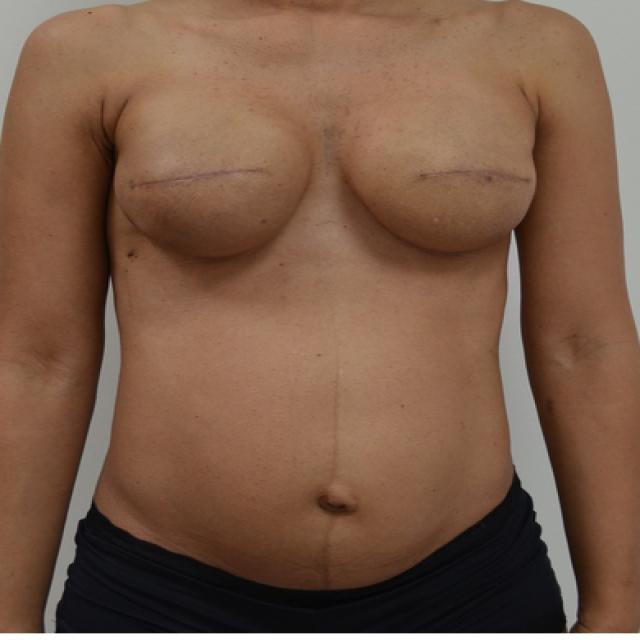Seno herido: (106, 91, 319, 276), (330, 89, 546, 271)
